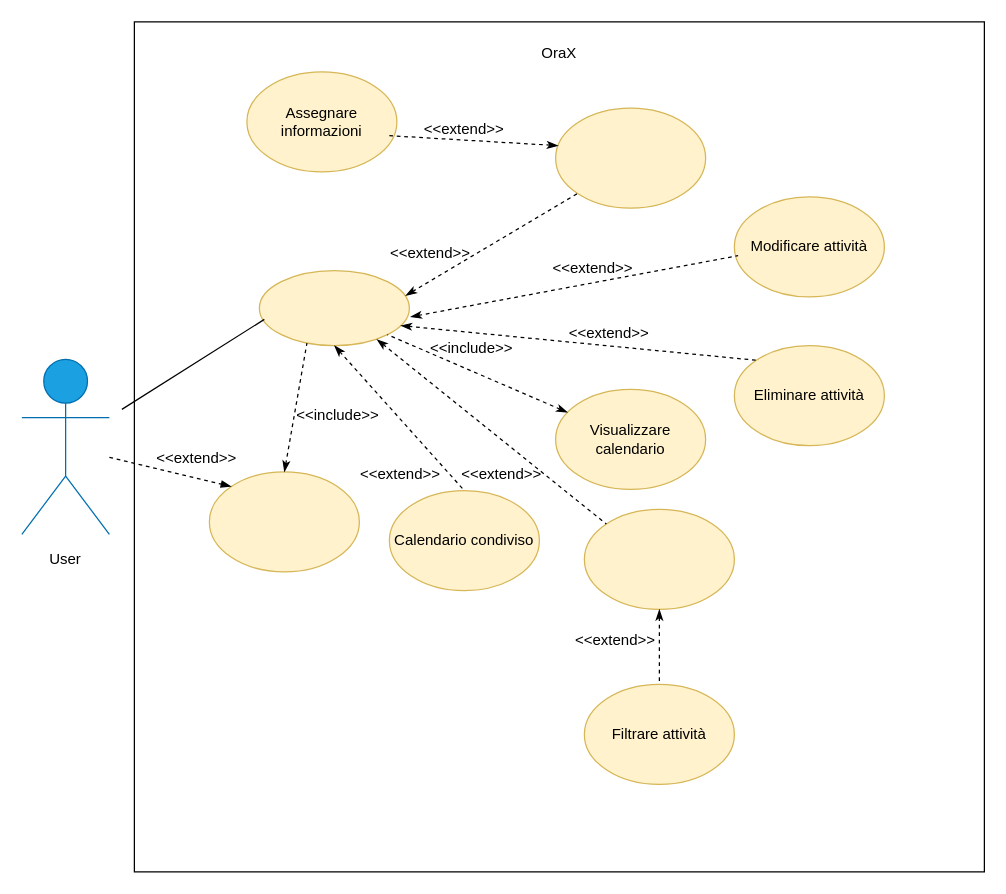
Image size: 1006x894. Some labels were removed from this diagram. The shapes that lost their labels are listed below. From the top down, each one's centre as x and y in pixels, then its label:
(x=630, y=157): Inserire attività
(x=333, y=307): Accedere
(x=283, y=521): Registrazione
(x=658, y=558): Ricerca attività
